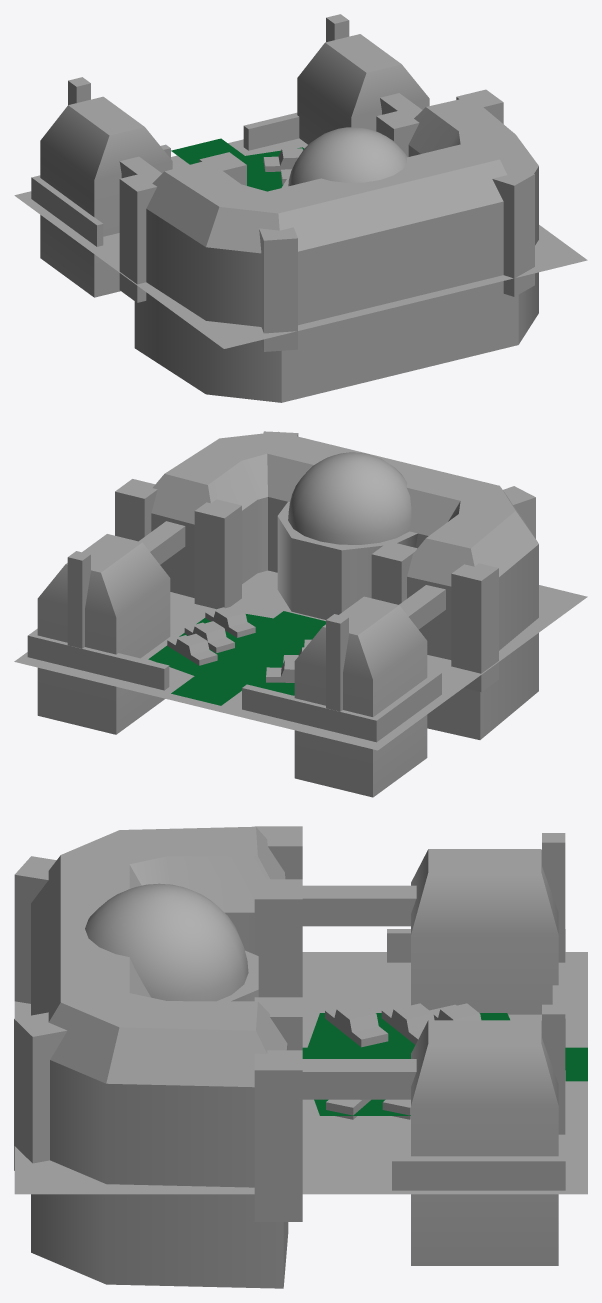
The model's file is street_congress_center_001.fbx.
3 renders of one model, top to bottom at view 1: azimuth 30°, elevation 25°; view 2: azimuth 150°, elevation 25°; view 3: azimuth 270°, elevation 25°, orthographic. The views are drawn at different scales.
Parts seen in each view (by area): view 1: street_congress_center_001; view 2: street_congress_center_001; view 3: street_congress_center_001.
Boxes of the visible parts, left/top/right/bottom form: street_congress_center_001: left=14, top=14, right=587, bottom=402; street_congress_center_001: left=14, top=431, right=587, bottom=797; street_congress_center_001: left=14, top=826, right=587, bottom=1288.
Bounding box in the file's own units: 1.01 × 0.542 × 1.
